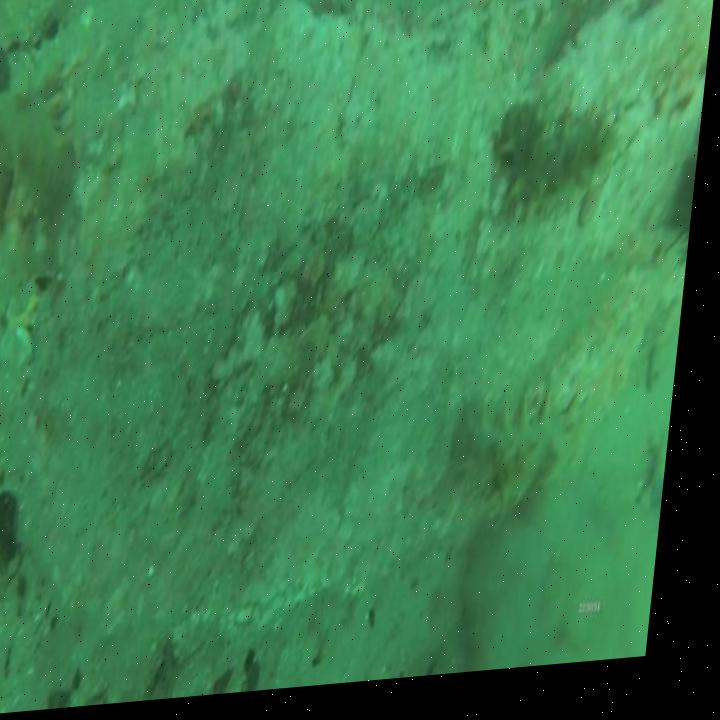echinus: (663, 152, 703, 279)
holothurian: (464, 391, 603, 542), (492, 97, 632, 240), (0, 68, 94, 242)
